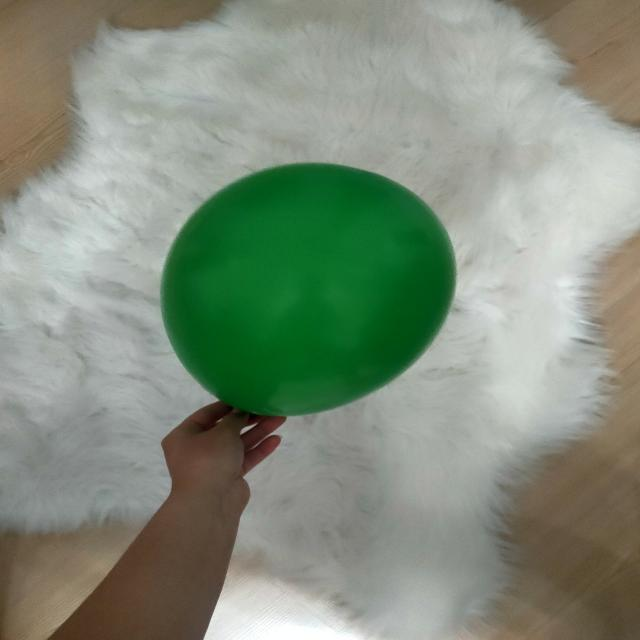green: (163, 164, 459, 422)
